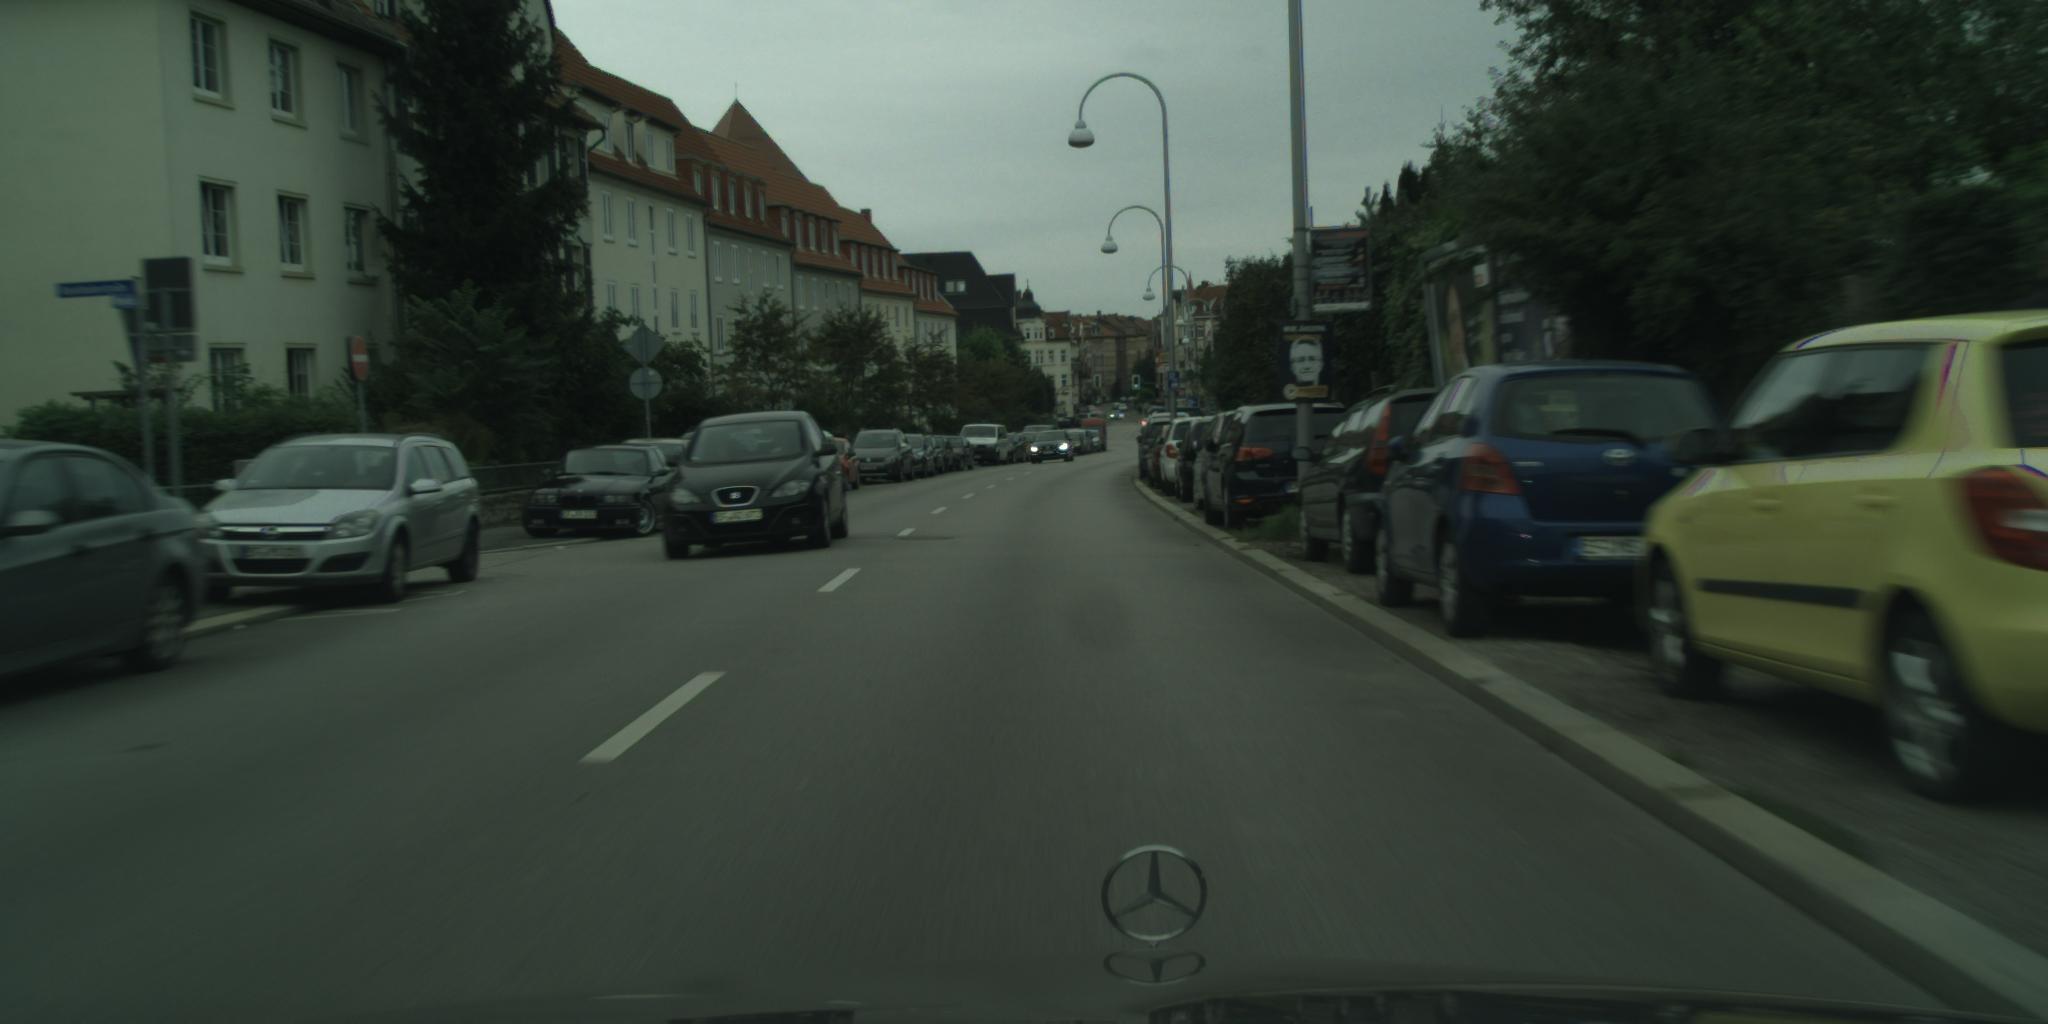car: (1634, 310, 2048, 808), (1371, 360, 1738, 637), (185, 432, 483, 607), (1, 439, 213, 684), (1292, 387, 1456, 575), (666, 411, 850, 562), (1202, 402, 1354, 532), (522, 444, 691, 539), (1186, 411, 1243, 515), (620, 439, 708, 498), (1176, 421, 1229, 504), (1157, 418, 1213, 498), (1138, 411, 1192, 481), (852, 428, 916, 486), (811, 438, 862, 492), (957, 424, 1011, 468), (1147, 424, 1178, 491), (1142, 408, 1207, 439), (904, 434, 938, 481), (1031, 430, 1075, 464), (946, 436, 974, 472), (925, 436, 950, 475), (1006, 434, 1036, 465), (1015, 434, 1048, 462), (1081, 418, 1108, 453), (933, 436, 956, 473), (1058, 431, 1085, 457), (1025, 426, 1061, 441), (1072, 431, 1095, 456), (680, 432, 700, 451), (818, 431, 839, 448), (1110, 410, 1126, 421)
